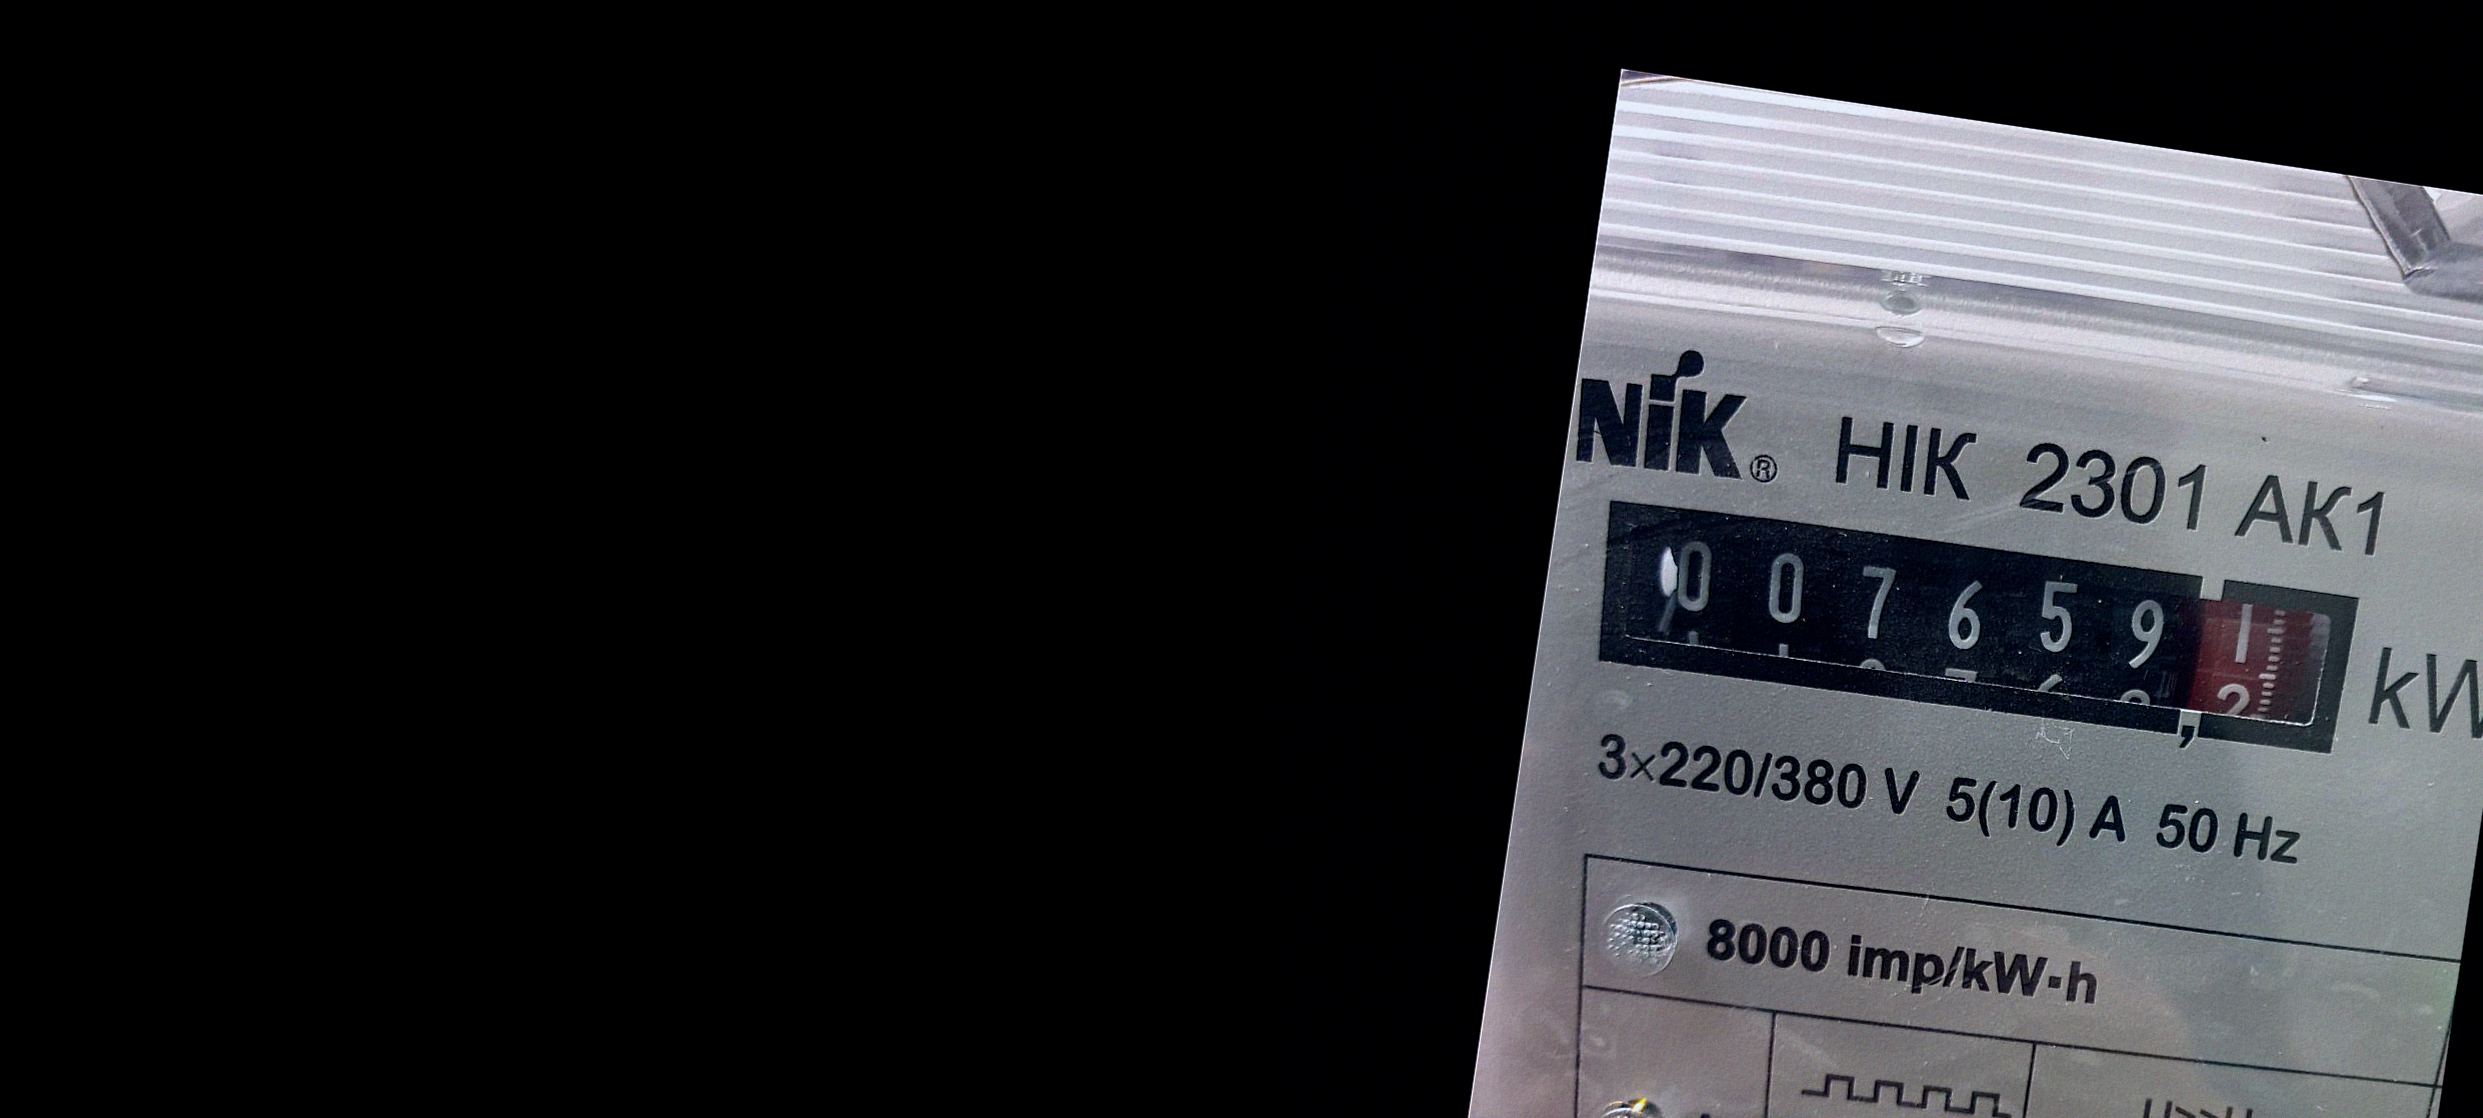0: (1751, 540, 1819, 633), (1664, 527, 1728, 624)
1: (2223, 594, 2269, 675)
5: (2029, 572, 2086, 660)
6: (1935, 567, 1998, 657)
7: (1850, 557, 1902, 648)
9: (2119, 588, 2174, 683)
screen: (1566, 466, 2383, 792)
